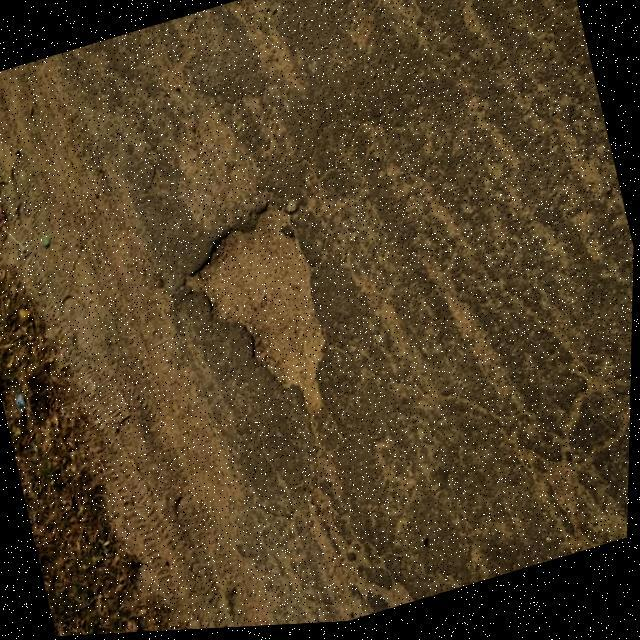pothole: (154, 178, 374, 464)
